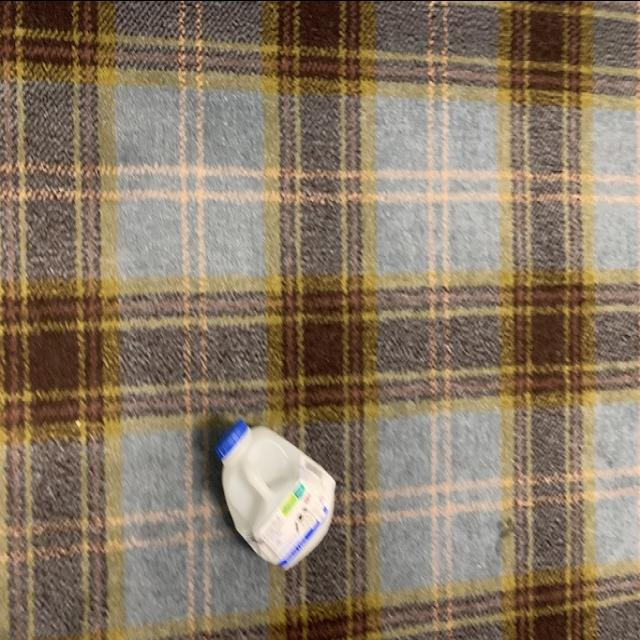litter: (212, 412, 346, 572)
